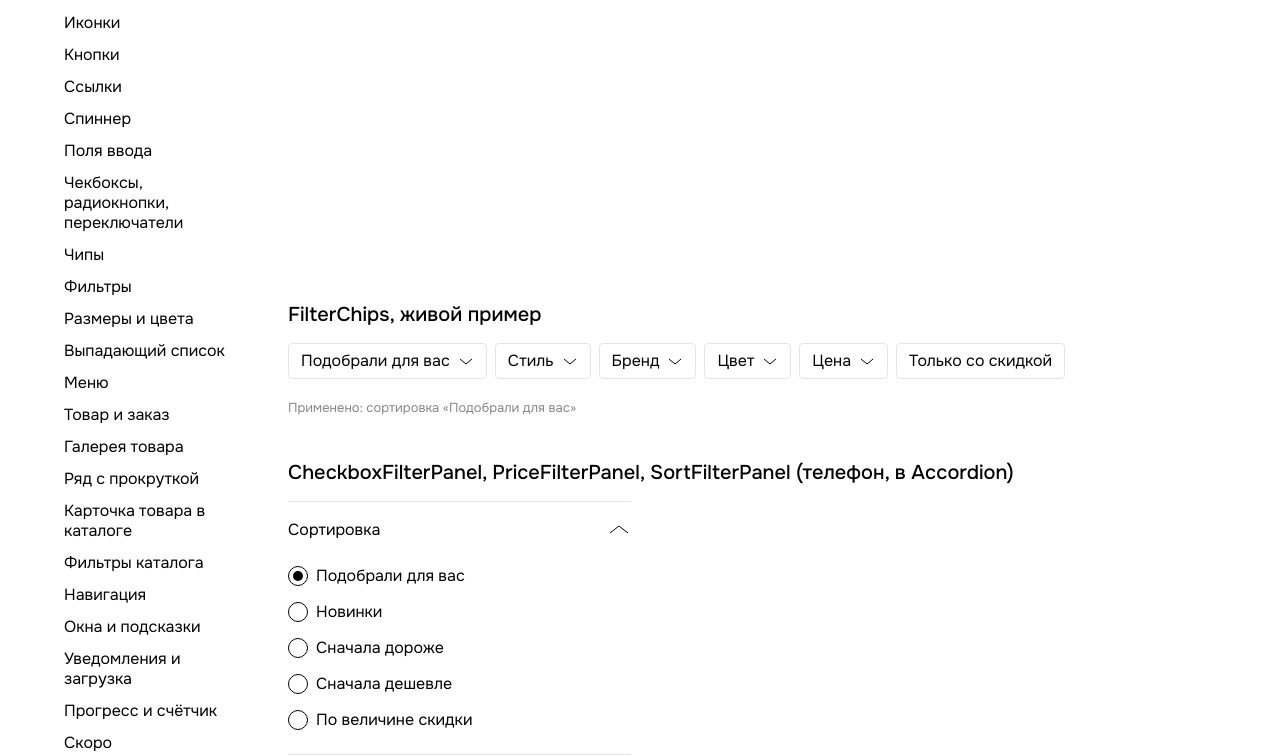
Test: filters demo › narrows the brands by search
(page scrolled)
Click the 1st button "Бренд".
click(648, 361)  # box 600,344 -> 695,378
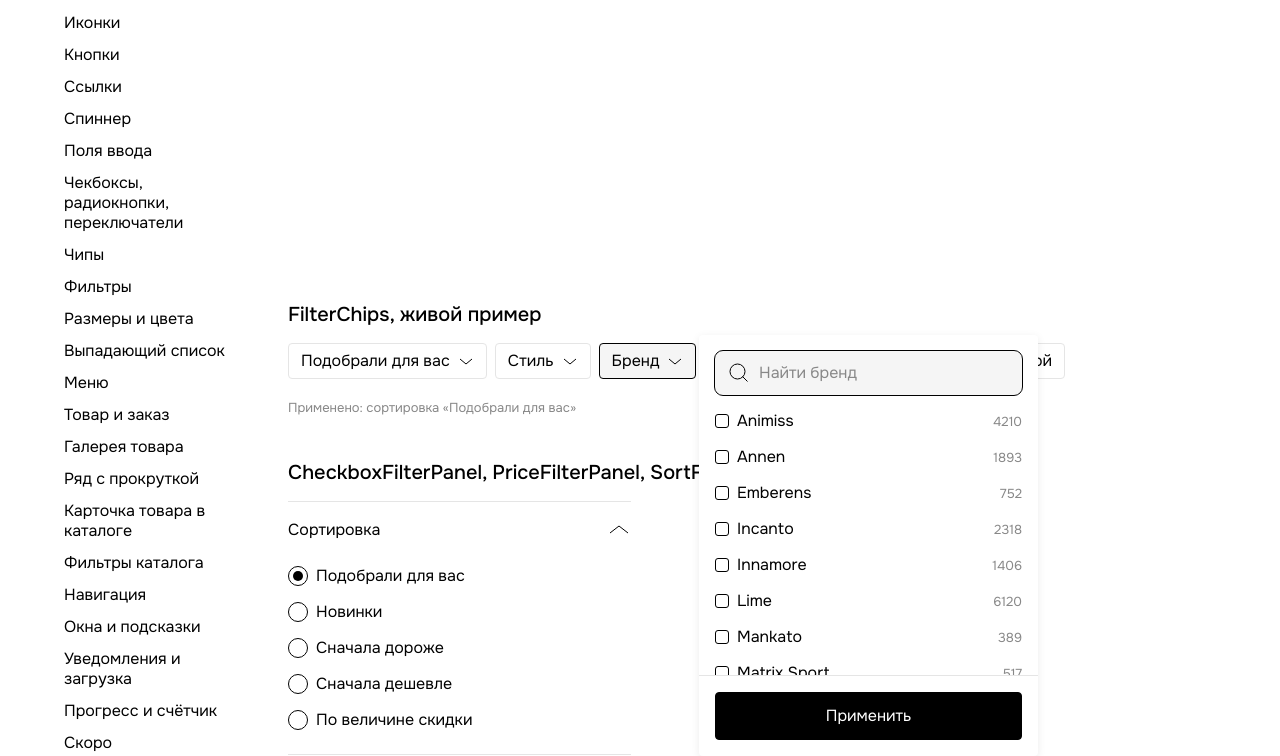
Type "inn" into the search field named "Поиск: Бренд".
click(868, 373); type("inn")  # box 715,351 -> 1022,395
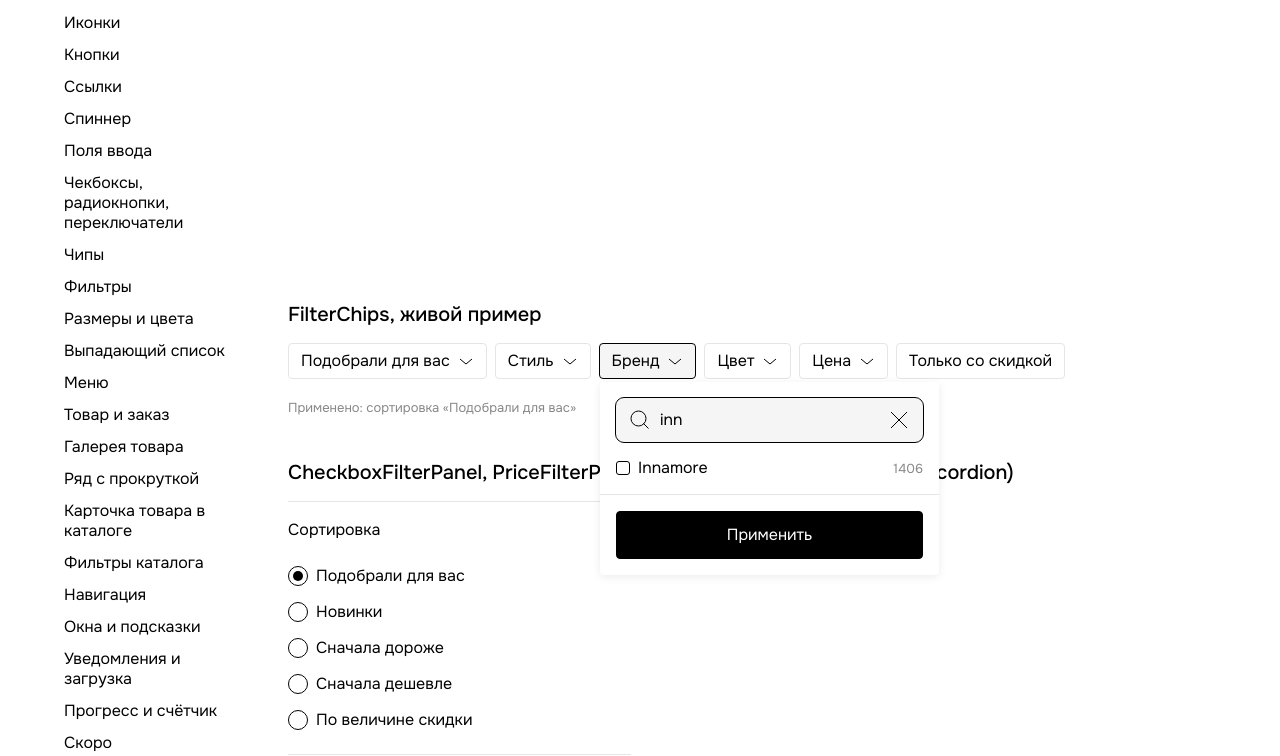
expect the checkbox named "Innamore" is shown: met, box 616,461 -> 630,475
expect the text "Lime" is gone: met
